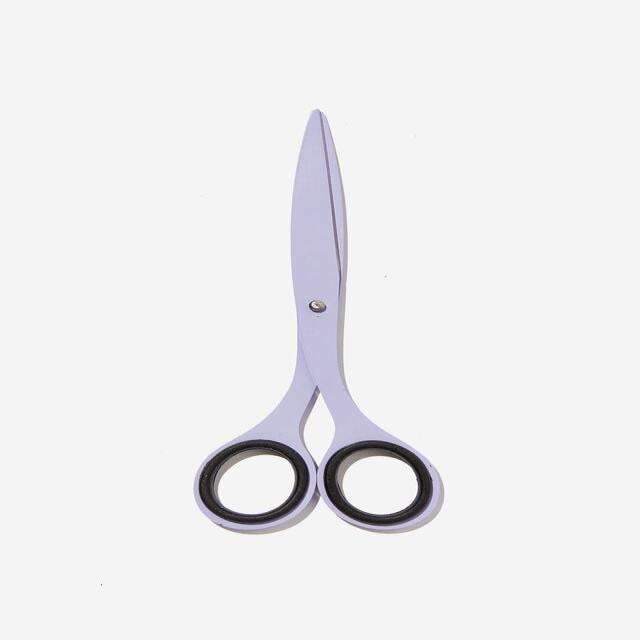scissor: (204, 115, 426, 539)
